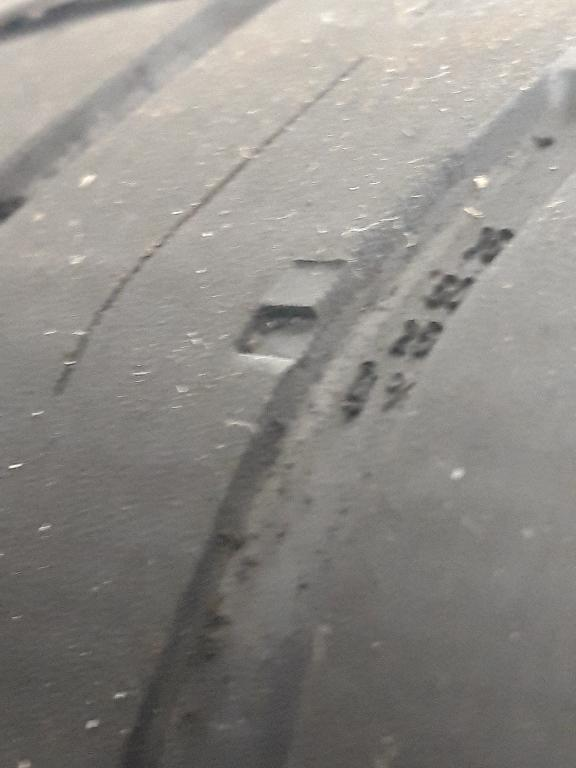temoin:25: (218, 244, 382, 393)
